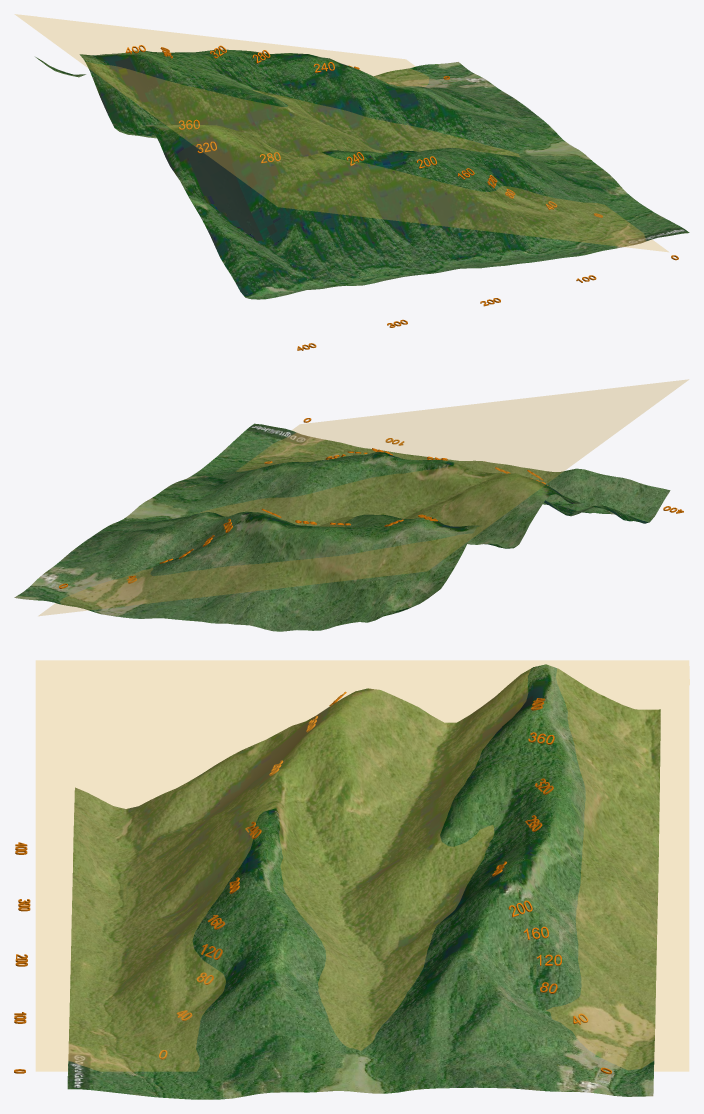
Rendered from RioRastro2b.glb.
The picture shows the model from 3 angles, top to bottom: view 1: azimuth 30°, elevation 25°; view 2: azimuth 150°, elevation 25°; view 3: azimuth 270°, elevation 25°; orthographic projection. The views are drawn at different scales.
Parts seen in each view (by area): view 1: Location Terrain, object 4, object 2; view 2: Location Terrain, object 4, object 2; view 3: Location Terrain, object 4, object 2.
Boxes of the visible parts, box(x1,y1,x2,y2) form: Location Terrain: box(35, 49, 689, 299); object 4: box(15, 14, 668, 251); object 2: box(125, 45, 602, 217); Location Terrain: box(14, 423, 670, 631); object 4: box(39, 379, 688, 615); object 2: box(59, 448, 548, 588); Location Terrain: box(67, 664, 660, 1099); object 4: box(36, 660, 689, 1071); object 2: box(159, 691, 611, 1074).
Bounding box in the file's own units: 2041 × 668 × 2243.
3 materials, 1 textured.
